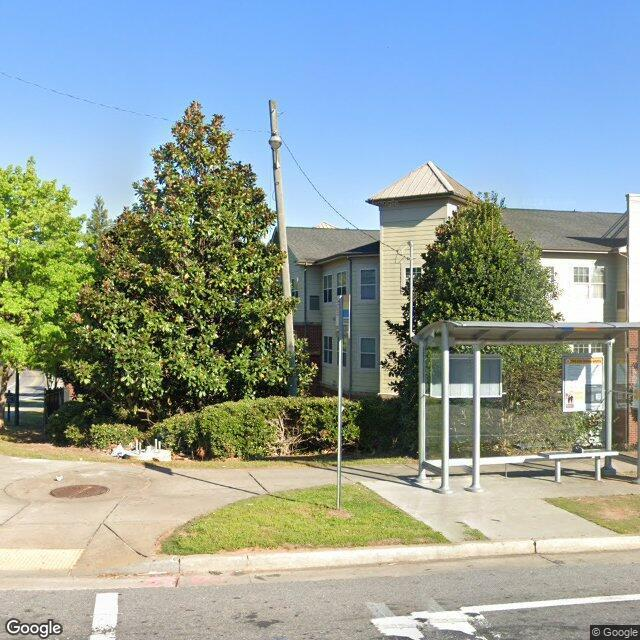seating: (542, 446, 618, 484)
shelter: (411, 321, 640, 496)
